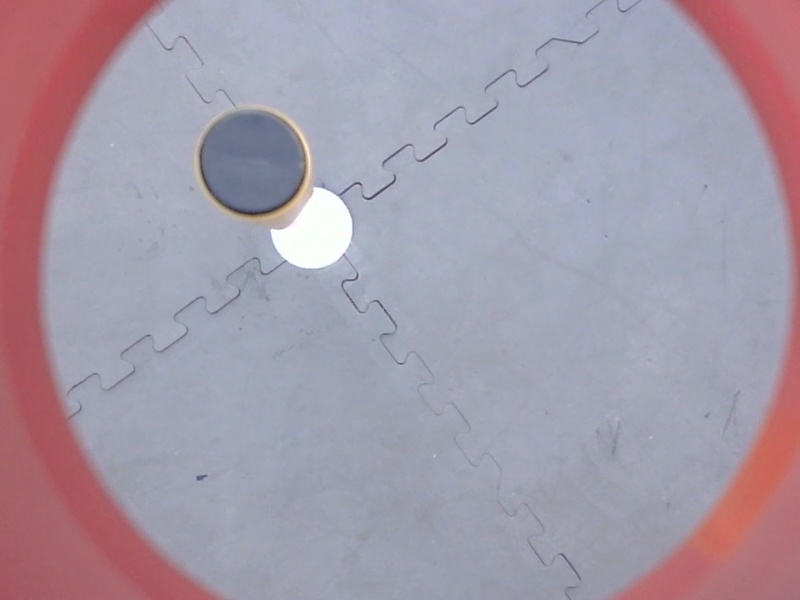tip: (193, 103, 316, 226)
